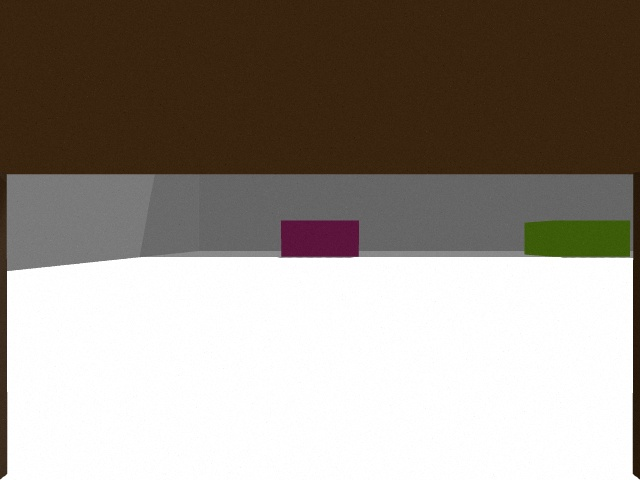green_drop_zone: (524, 220, 630, 257)
red_drop_zone: (281, 220, 359, 257)
